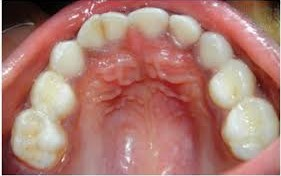UL1BC_healthy: (210, 63, 257, 103)
UL2BC_healthy: (224, 102, 277, 154)
ULCI_healthy: (132, 7, 169, 40)
ULC_healthy: (197, 31, 234, 67)
ULLI_healthy: (168, 15, 201, 50)
UR1BC_healthy: (33, 73, 77, 119)
UR2BC_healthy: (11, 111, 69, 169)
URCI_healthy: (104, 11, 129, 42)
URC_healthy: (52, 44, 87, 75)
URLI_healthy: (80, 16, 105, 50)
